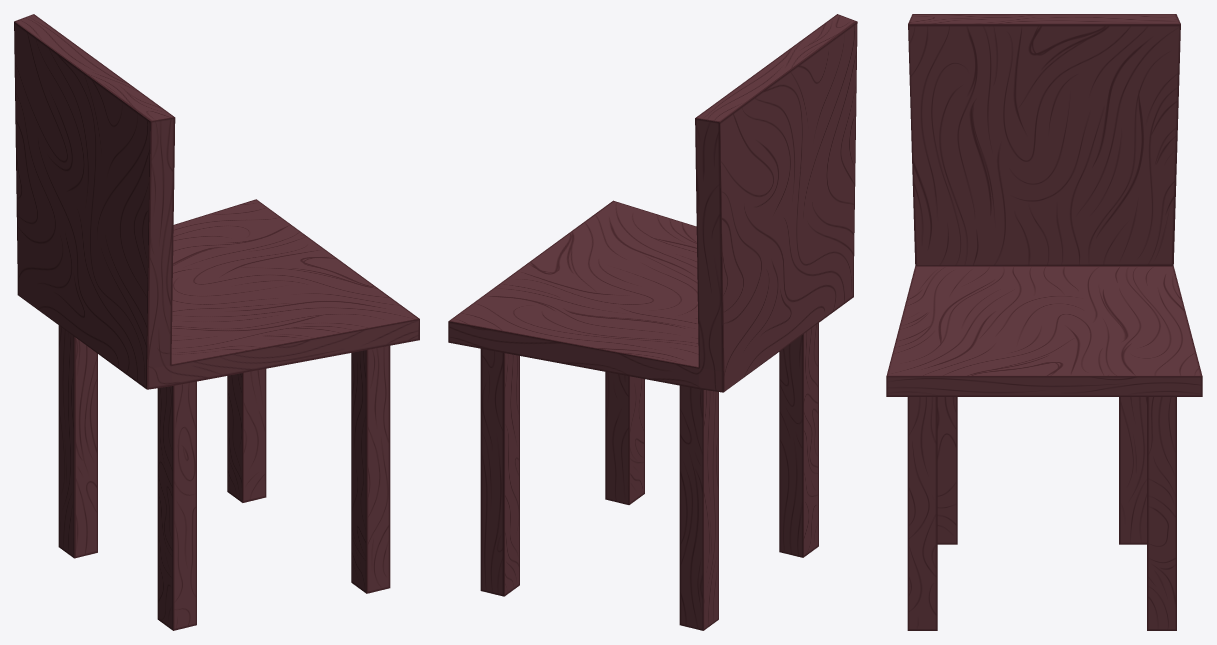
File: cadeirafinal.fbx
The picture shows the model from 3 angles, left to right: view 1: azimuth 30°, elevation 25°; view 2: azimuth 150°, elevation 25°; view 3: azimuth 270°, elevation 25°; orthographic projection. The views are drawn at different scales.
Parts seen in each view (by area): view 1: cadeira; view 2: cadeira; view 3: cadeira.
Boxes of the visible parts, x1,y1,x2,y2 form: cadeira: (14, 14, 419, 630); cadeira: (448, 14, 857, 630); cadeira: (886, 14, 1202, 630).
Size of the model in its own units: 13.53 by 26.43 by 14.98.
Materials: 1 (1 with a texture image).
